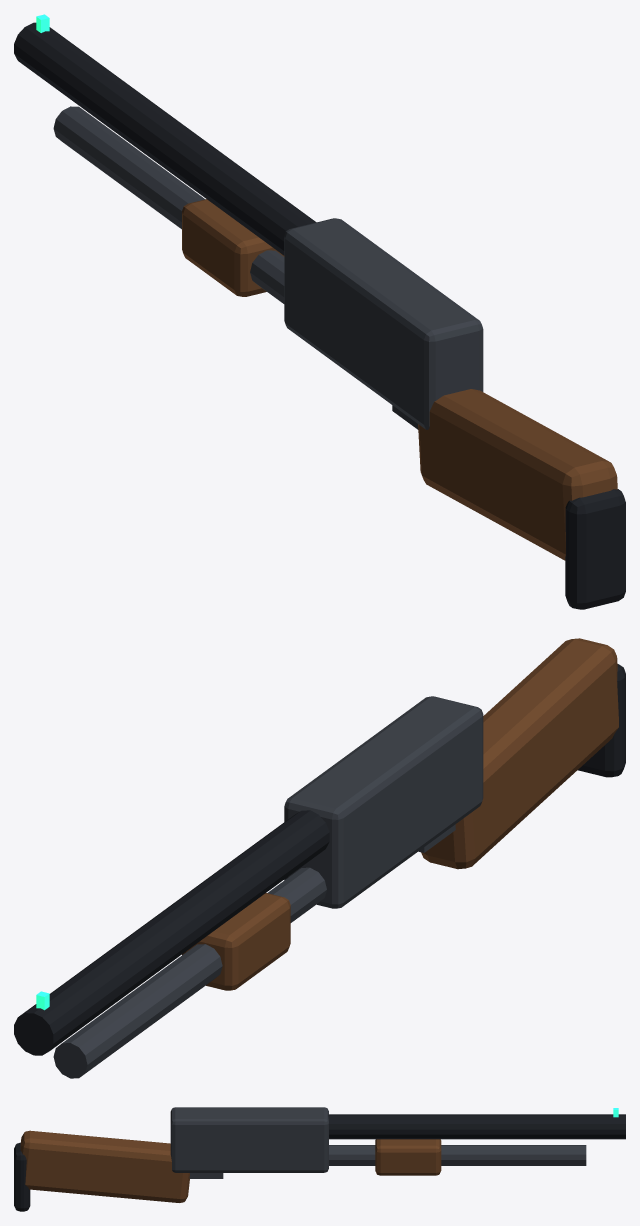
The model's file is wpn_shotgun.glb.
The picture shows the model from 3 angles, top to bottom: view 1: azimuth 30°, elevation 25°; view 2: azimuth 150°, elevation 25°; view 3: azimuth 270°, elevation 25°; orthographic projection. The views are drawn at different scales.
Visible parts, largest first — view 1: Receiver, Stock, Barrel, Tube, StockPad, Pump; view 2: Receiver, Stock, Barrel, Tube, Pump, StockPad; view 3: Receiver, Stock, Barrel, Tube, Pump, StockPad, TriggerGuard.
Part boxes in pixels (x1,y1,x2,y2): Receiver: (284,218,483,429); Stock: (418,389,617,560); Barrel: (14,22,316,255); Tube: (53,106,284,303); StockPad: (565,489,625,609); Pump: (182,199,284,296); Receiver: (284,696,483,908); Stock: (421,638,618,869); Barrel: (14,810,329,1055); Tube: (53,867,326,1078); Pump: (182,893,290,990); StockPad: (578,664,625,777); Receiver: (170,1107,328,1172); Stock: (20,1130,189,1202); Barrel: (328,1114,625,1139); Tube: (329,1145,586,1165); Pump: (375,1139,441,1175); StockPad: (14,1142,30,1211); TriggerGuard: (189,1173,223,1178).
Size of the model in its own units: 0.055 by 0.164 by 0.9275.
